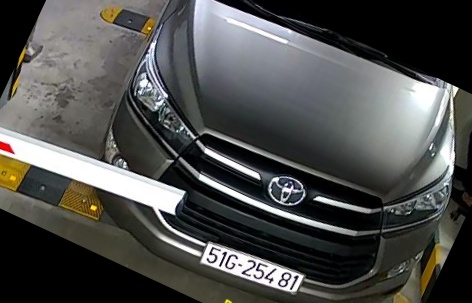plate: (188, 224, 317, 295)
